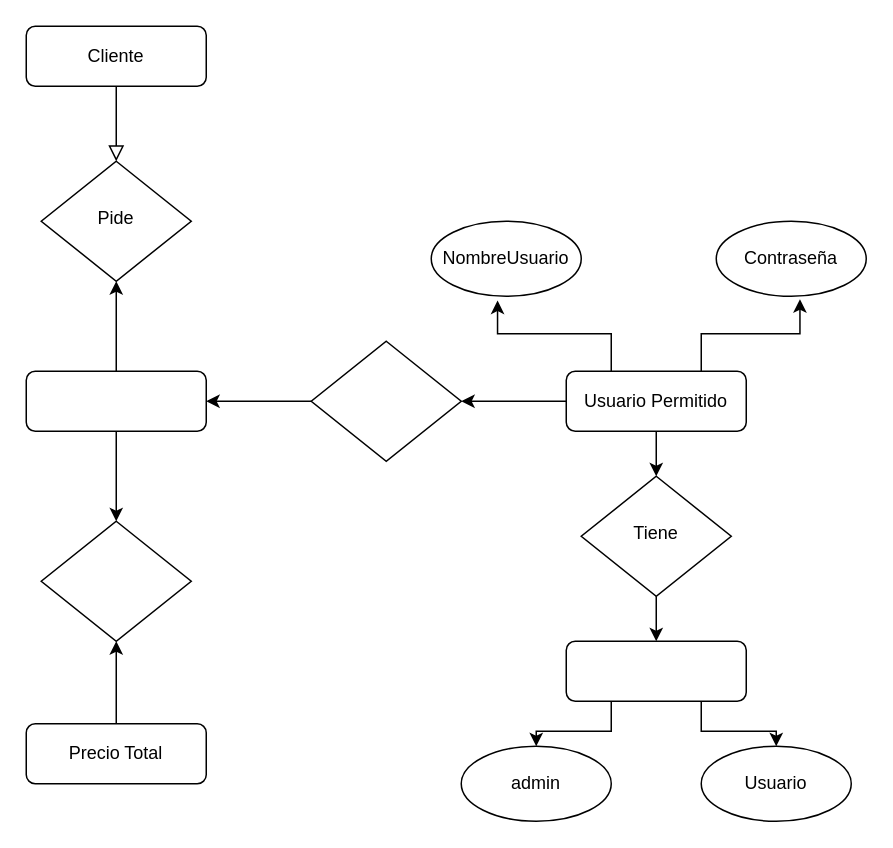
The diagram is 893 pixels wide and 848 high, and some of its shapes have lost their labels. Here are the shapes that lost their labels. From the top down, the box of each, then its label:
(25, 370, 206, 431): Cotizacion
(310, 340, 461, 461): Genera
(40, 520, 191, 641): Muestra
(565, 640, 746, 701): Roles
